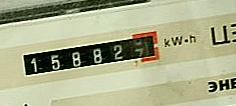1: (25, 54, 36, 71)
2: (108, 40, 120, 58)
5: (46, 51, 58, 68)
7: (131, 44, 141, 56)
8: (87, 44, 100, 63), (67, 48, 79, 66)
screen: (11, 23, 164, 84)
